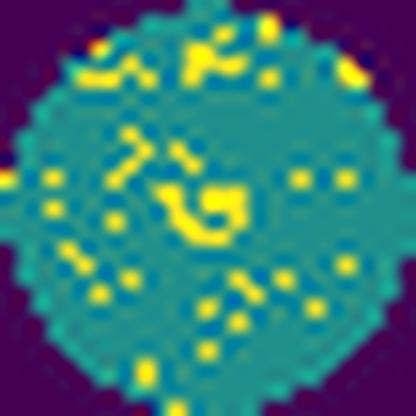Center: (140, 177, 254, 251)
